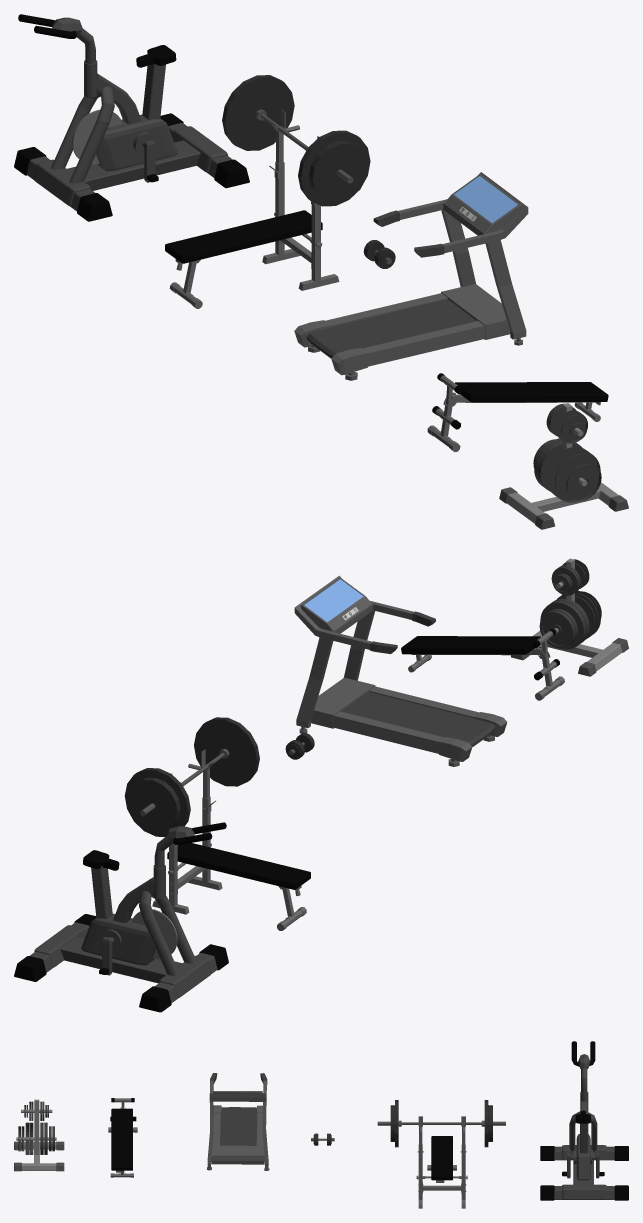
Rendered from Качалка the best1.fbx.
3 renders of one model, top to bottom at view 1: azimuth 30°, elevation 25°; view 2: azimuth 150°, elevation 25°; view 3: azimuth 270°, elevation 25°, orthographic. The views are drawn at different scales.
Parts seen in each view (by area): view 1: бегит(беговая дорожка), велотреножер, штанга, скамья для штанги, Cylinder.024, пресс; view 2: бегит(беговая дорожка), велотреножер, штанга, скамья для штанги, Cylinder.024, пресс; view 3: велотреножер, бегит(беговая дорожка), скамья для штанги, Cylinder.024, пресс, штанга.
Boxes of the visible parts, x1,y1,x2,y2 form: бегит(беговая дорожка): (294, 172, 528, 380); велотреножер: (14, 14, 249, 221); штанга: (222, 75, 370, 206); скамья для штанги: (165, 109, 339, 308); Cylinder.024: (499, 403, 628, 529); пресс: (427, 373, 608, 452); бегит(беговая дорожка): (294, 575, 507, 766); велотреножер: (14, 822, 228, 1012); штанга: (124, 717, 259, 836); скамья для штанги: (152, 749, 310, 930); Cylinder.024: (511, 558, 628, 676); пресс: (401, 629, 564, 700); велотреножер: (540, 1041, 628, 1200); бегит(беговая дорожка): (207, 1073, 269, 1170); скамья для штанги: (416, 1116, 467, 1208); Cylinder.024: (14, 1099, 64, 1171); пресс: (108, 1098, 137, 1177); штанга: (377, 1100, 505, 1147).
Bounding box in the file's own units: 285 × 290 × 1352.
